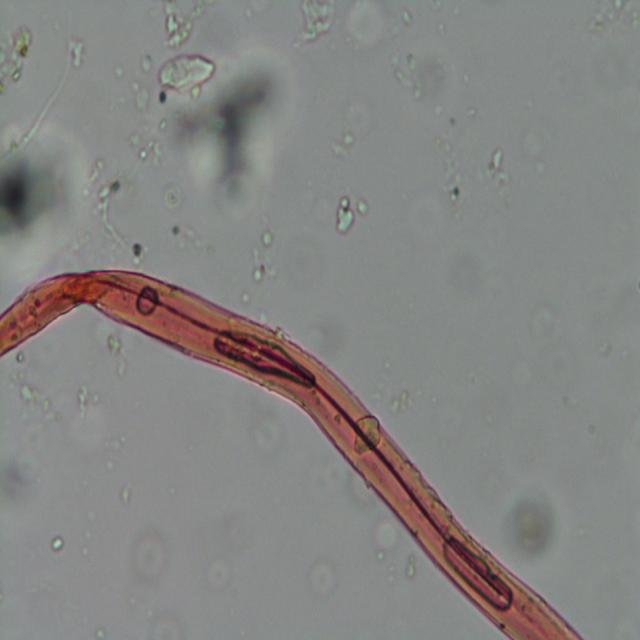Background material: (150, 33, 302, 225), (0, 111, 88, 262), (90, 150, 148, 265), (434, 96, 480, 215), (503, 490, 553, 564), (396, 52, 455, 108), (153, 53, 213, 103), (114, 53, 154, 118), (0, 23, 36, 90), (0, 448, 40, 508), (162, 0, 205, 53), (294, 1, 341, 49), (249, 408, 289, 461), (15, 377, 57, 426), (132, 527, 168, 582), (248, 228, 279, 285), (305, 555, 341, 601), (591, 1, 640, 34), (336, 195, 370, 238), (370, 520, 404, 561), (487, 148, 515, 197), (103, 335, 131, 376), (328, 129, 361, 162), (66, 28, 86, 76), (75, 379, 101, 414), (402, 554, 420, 581), (47, 531, 65, 553), (123, 482, 134, 507)
Cotton: (0, 264, 583, 639)
